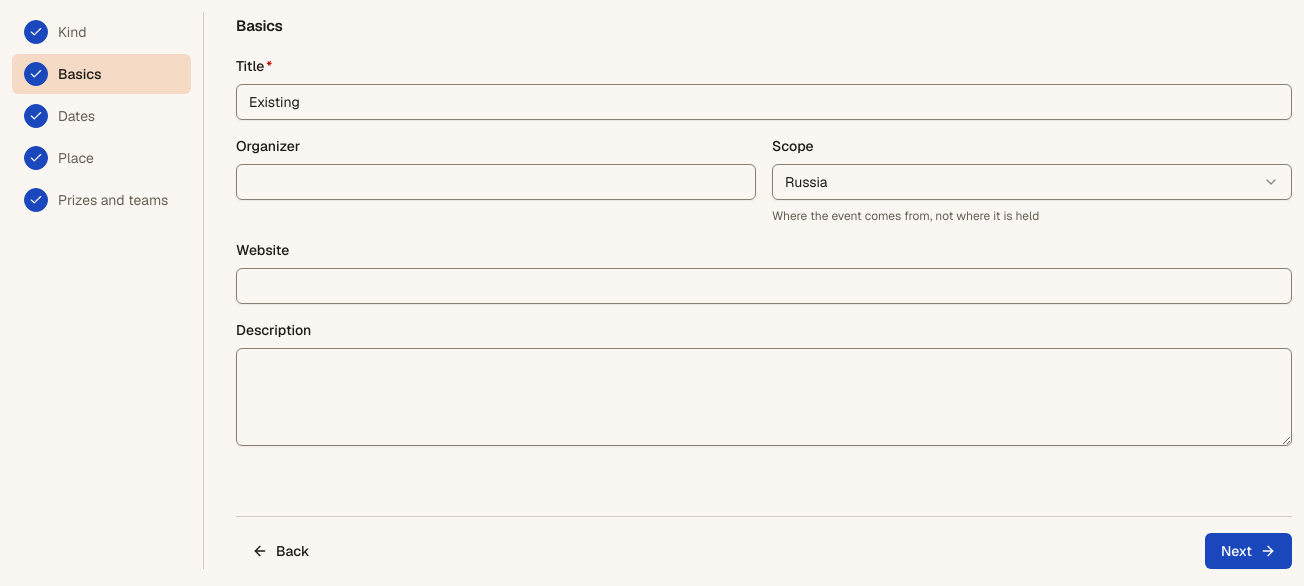
the zone is stated on the form › names the zone and its offset beside each moment
Click the button "Dates" at (102, 116), box [12,96,191,136]
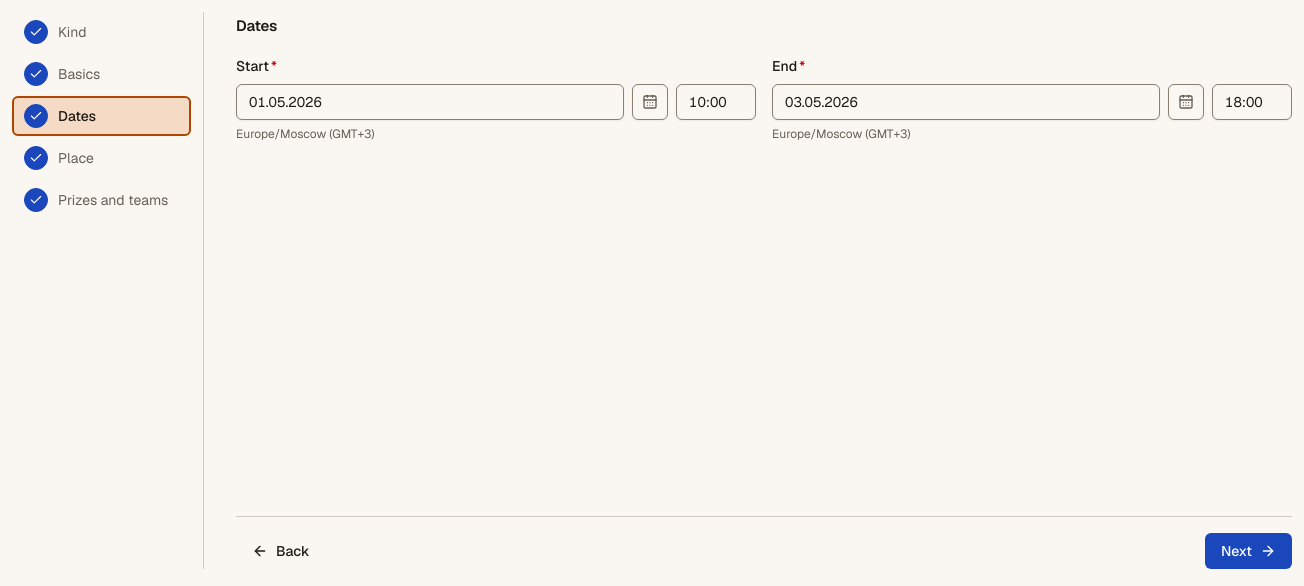
Expected: the text with test id "event-start-zone" shows "Europe/Moscow", [236,126,375,142]
Expected: the text with test id "event-start-zone" shows "GMT+3", [236,126,375,142]
